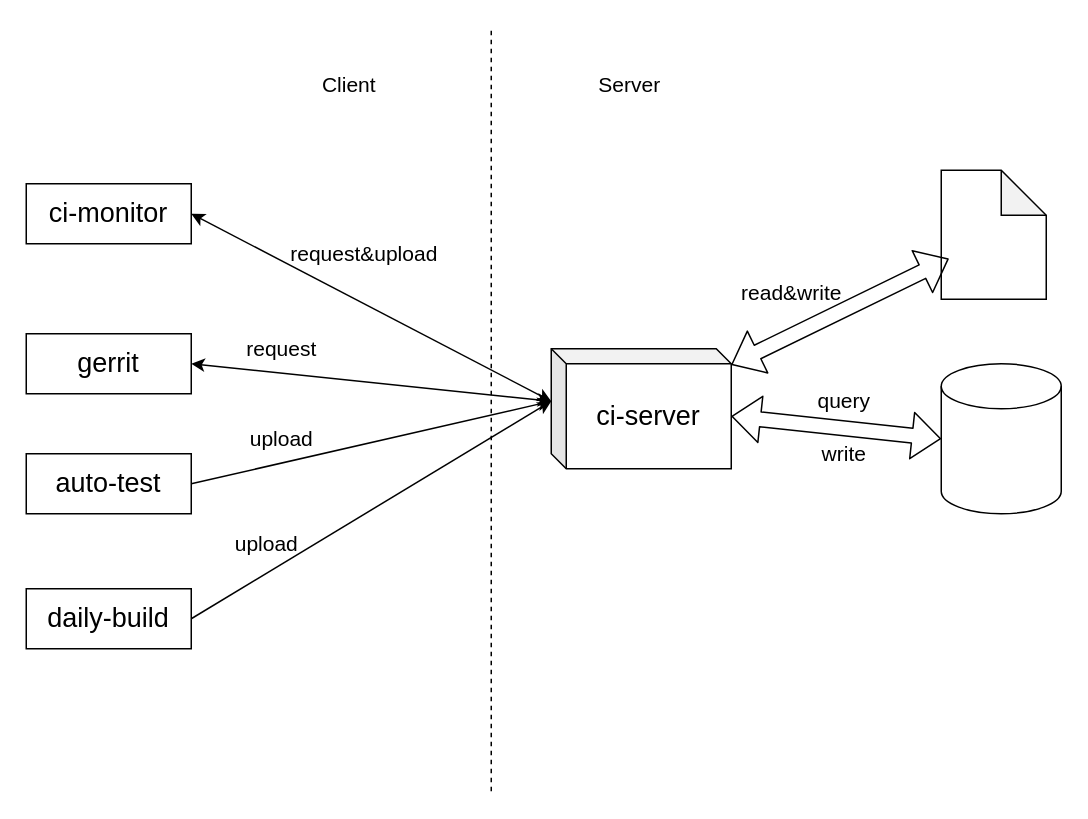
Some shapes in this 1088 by 819 pixel diagram are drawn without their labels. The shapes that lost their labels are listed below. From the top down, each one's centre as x and y in pixels, then its label:
At (x=993, y=234): "logs".
At (x=1000, y=438): "database".
